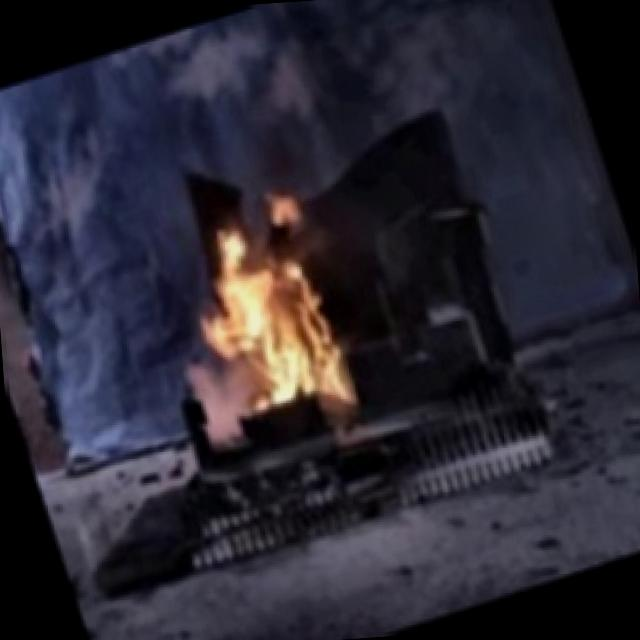fire: (154, 172, 372, 440)
